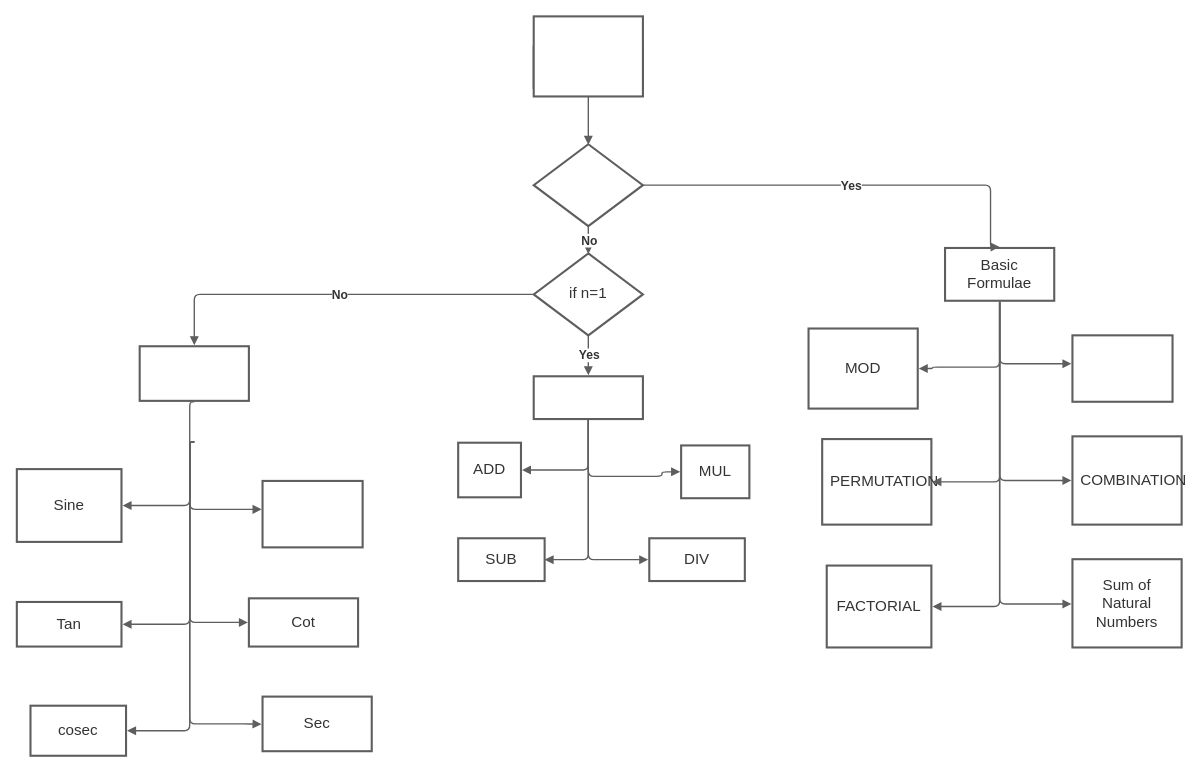
Image size: 1201x773. Some labels were removed from this diagram. Here are the shapes that lost their labels. From the top down, the centre of each, then its label:
the point at 588,56: Math calc
the point at 588,185: if m=1
the point at 194,373: Trignometry
the point at 1122,368: POWER
the point at 588,397: Arithmetic
the point at 312,513: Cosine
